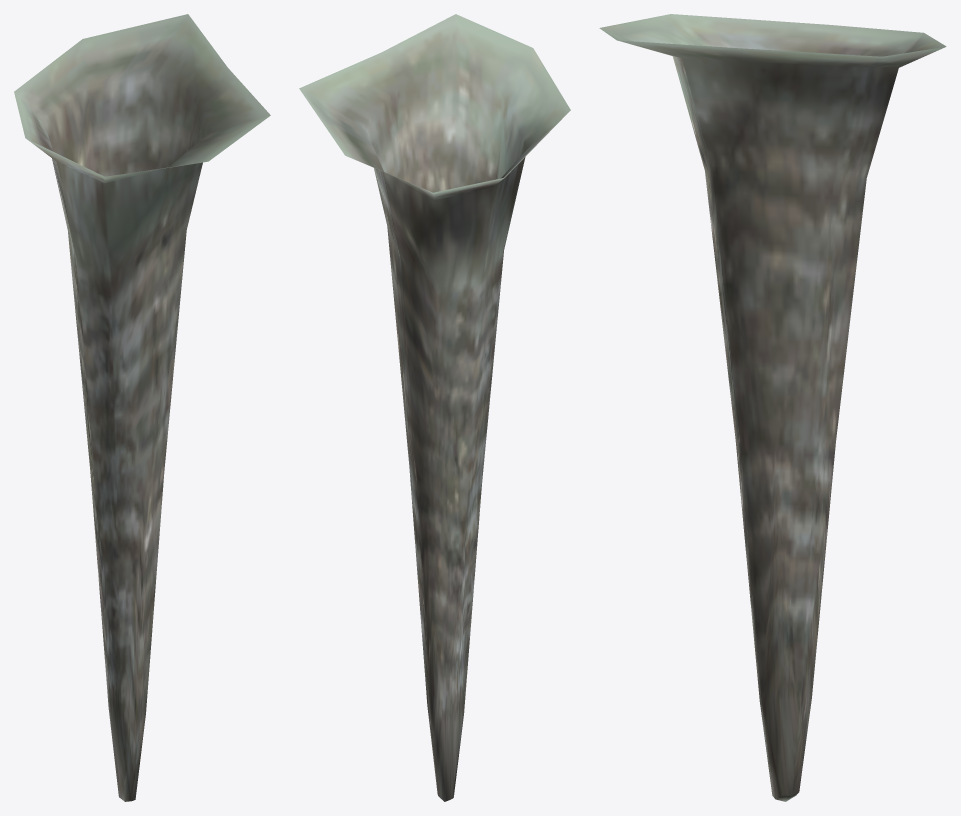
The model's file is TROLLHOLE02_PS-MAINSTALAG12.fbx.
3 views of the same model, side by side, from view 1: azimuth 30°, elevation 25°; view 2: azimuth 150°, elevation 25°; view 3: azimuth 270°, elevation 25° (orthographic). The views are drawn at different scales.
Parts seen in each view (by area): view 1: TROLLHOLE02_PS-MAINSTALAG12; view 2: TROLLHOLE02_PS-MAINSTALAG12; view 3: TROLLHOLE02_PS-MAINSTALAG12.
Boxes of the visible parts, x1,y1,x2,y2 form: TROLLHOLE02_PS-MAINSTALAG12: (14, 14, 270, 801); TROLLHOLE02_PS-MAINSTALAG12: (299, 14, 570, 801); TROLLHOLE02_PS-MAINSTALAG12: (599, 14, 946, 801).
Bounding box in the file's own units: 10831 × 40608 × 15970.
Materials: 1 (1 with a texture image).
